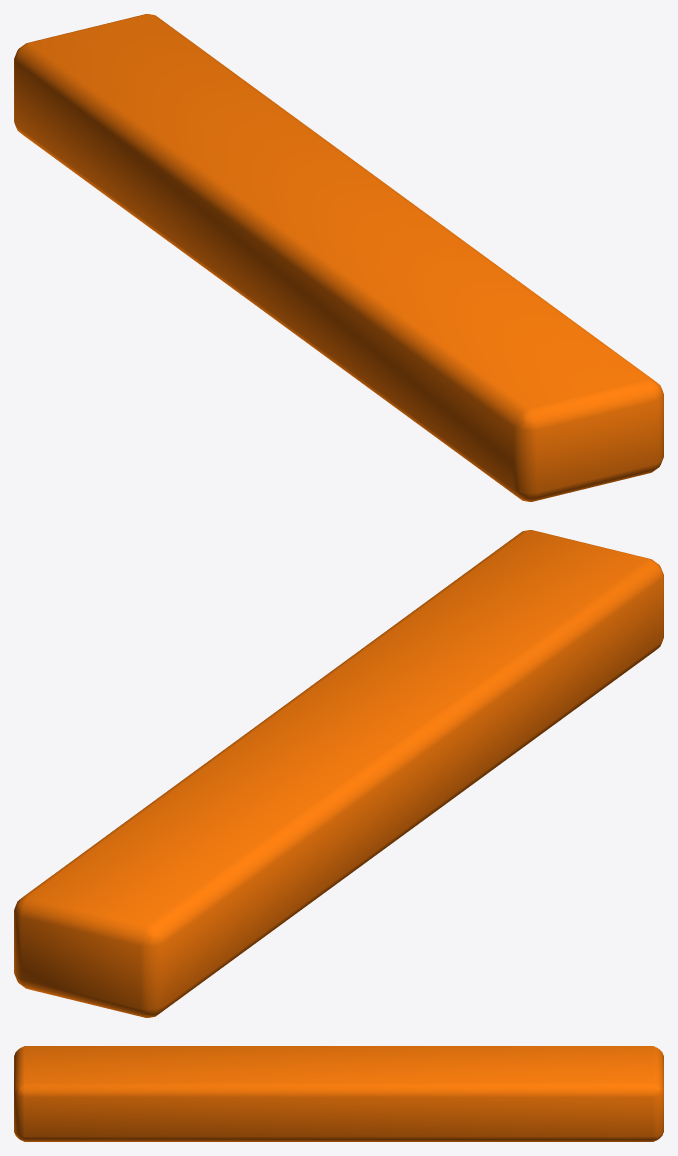
File: LongBlockYellow.fbx
3 renders of one model, top to bottom at view 1: azimuth 30°, elevation 25°; view 2: azimuth 150°, elevation 25°; view 3: azimuth 270°, elevation 25°, orthographic. The views are drawn at different scales.
Visible parts, largest first — view 1: LongBlock; view 2: LongBlock; view 3: LongBlock.
Part boxes in pixels (<box>): LongBlock: <box>14,14,663,501</box>; LongBlock: <box>14,530,663,1017</box>; LongBlock: <box>14,1046,663,1141</box>.
Bounding box in the file's own units: 2 × 1.2 × 12.
